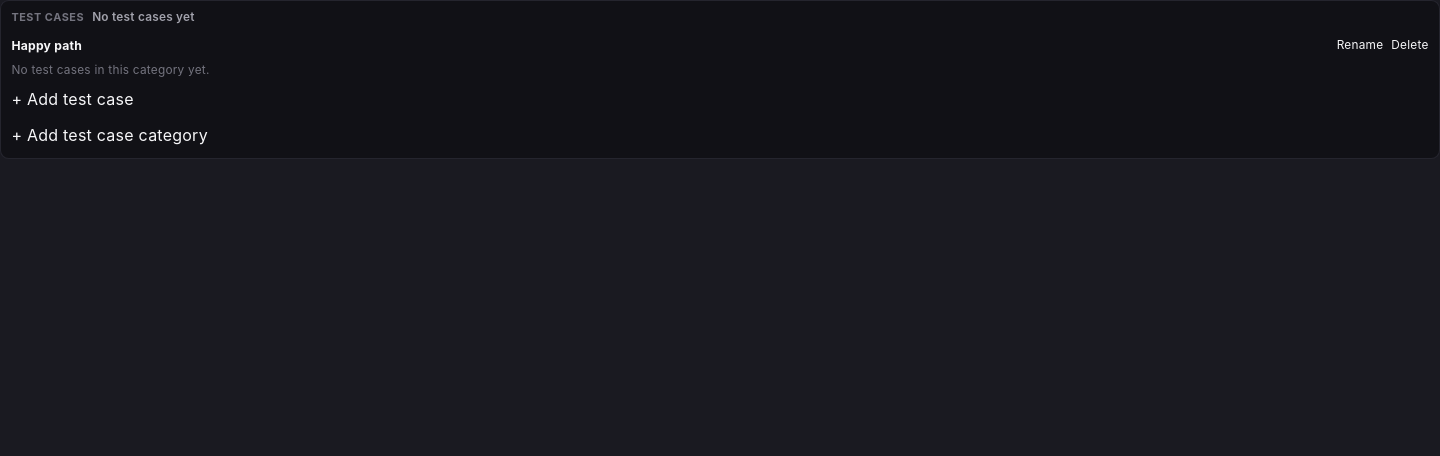
RunTestCases for the QA Team › refuses to send a blank test case and says why
The image size is (1440, 456).
Click the button "+ Add test case" at (73, 100), box [11,86,134,113]
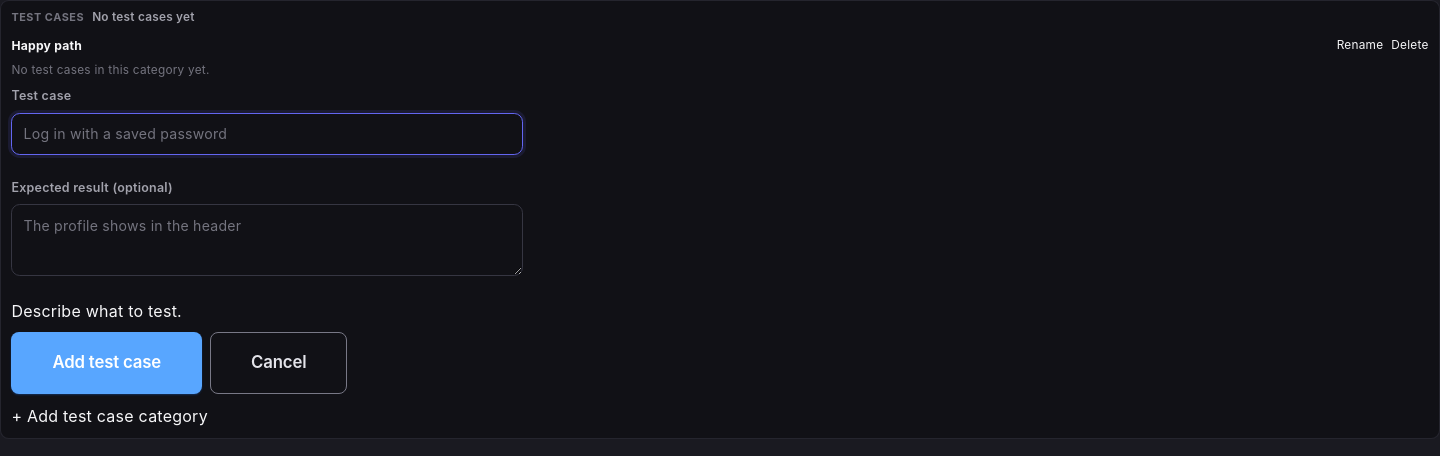
Expected: the message "Describe what to test." is shown, [11,301,182,321]
